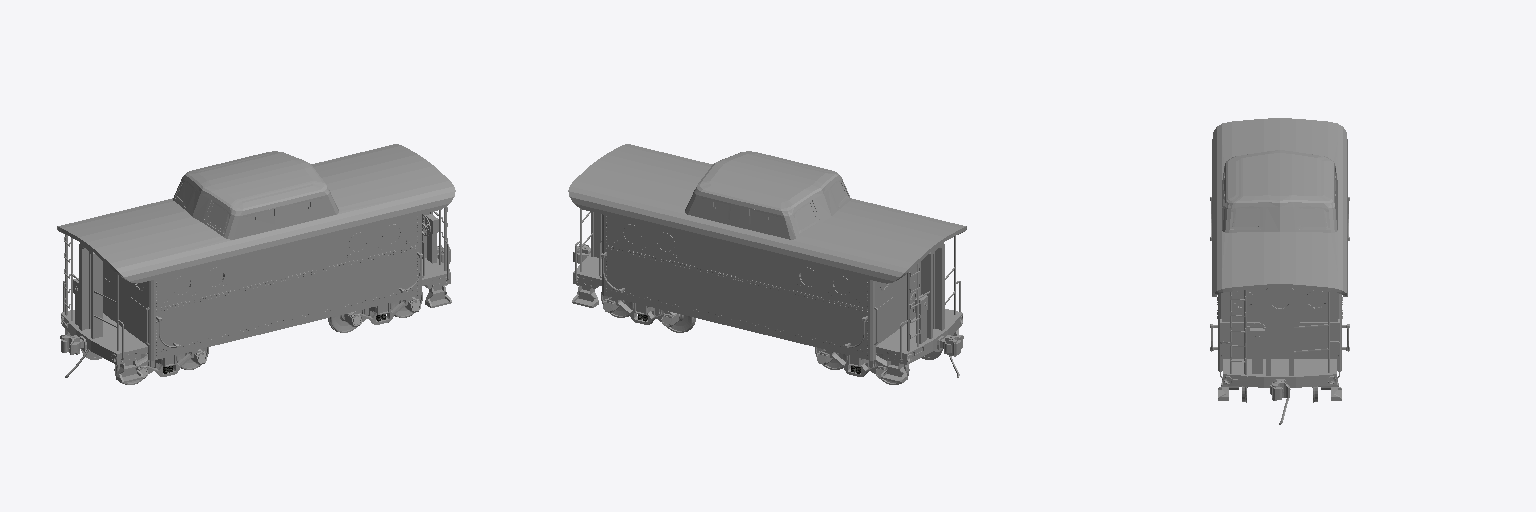
3 views of the same model, side by side, from view 1: azimuth 30°, elevation 25°; view 2: azimuth 150°, elevation 25°; view 3: azimuth 270°, elevation 25° (orthographic).
Visible parts, largest first — view 1: SHELL.001_Cube.014, SHELL_Cube.011, FRAME_Cube.010, Cube.006_Cube.038, FrontDoor_Cube.039, Cube.005_Cube.020, BOGEY_FRONT_Cube, BOGEY_REAR_Cube.007; view 2: SHELL.001_Cube.014, SHELL_Cube.011, FRAME_Cube.010, Cube.006_Cube.038, Cube.005_Cube.020, BOGEY_FRONT_Cube, BOGEY_REAR_Cube.007, FrontDoor_Cube.039; view 3: SHELL.001_Cube.014, SHELL_Cube.011, FRAME_Cube.010, Cube.005_Cube.020, FrontDoor.001_Cube.023, Cube.003_Cube.017.
Part boxes in pixels (x1,y1,x2,y2): SHELL.001_Cube.014: (57, 144, 455, 283); SHELL_Cube.011: (103, 214, 446, 361); FRAME_Cube.010: (60, 258, 451, 383); Cube.006_Cube.038: (62, 234, 149, 359); FrontDoor_Cube.039: (112, 270, 127, 330); Cube.005_Cube.020: (422, 207, 449, 280); BOGEY_FRONT_Cube: (345, 297, 420, 326); BOGEY_REAR_Cube.007: (137, 349, 206, 378); SHELL.001_Cube.014: (568, 144, 966, 283); SHELL_Cube.011: (577, 214, 920, 361); FRAME_Cube.010: (572, 254, 963, 383); Cube.006_Cube.038: (874, 236, 960, 359); Cube.005_Cube.020: (575, 208, 601, 280); BOGEY_FRONT_Cube: (603, 297, 678, 326); BOGEY_REAR_Cube.007: (817, 349, 886, 378); FrontDoor_Cube.039: (896, 270, 911, 330); SHELL.001_Cube.014: (1212, 118, 1347, 296); SHELL_Cube.011: (1217, 289, 1342, 371); FRAME_Cube.010: (1218, 359, 1341, 400); Cube.005_Cube.020: (1220, 288, 1339, 380); FrontDoor.001_Cube.023: (1264, 288, 1295, 358); Cube.003_Cube.017: (1250, 328, 1264, 373).
Bounding box in the file's own units: 9.31 × 3.76 × 2.92.
12 materials, 2 textured.